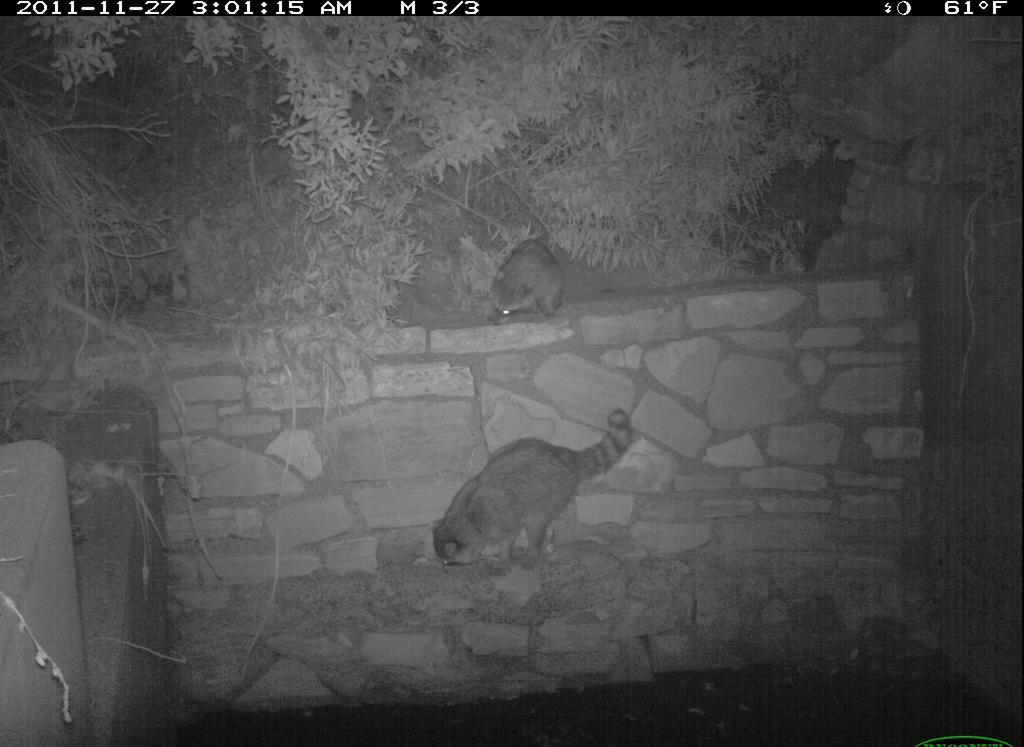raccoon: (428, 405, 642, 577), (483, 231, 569, 327)
